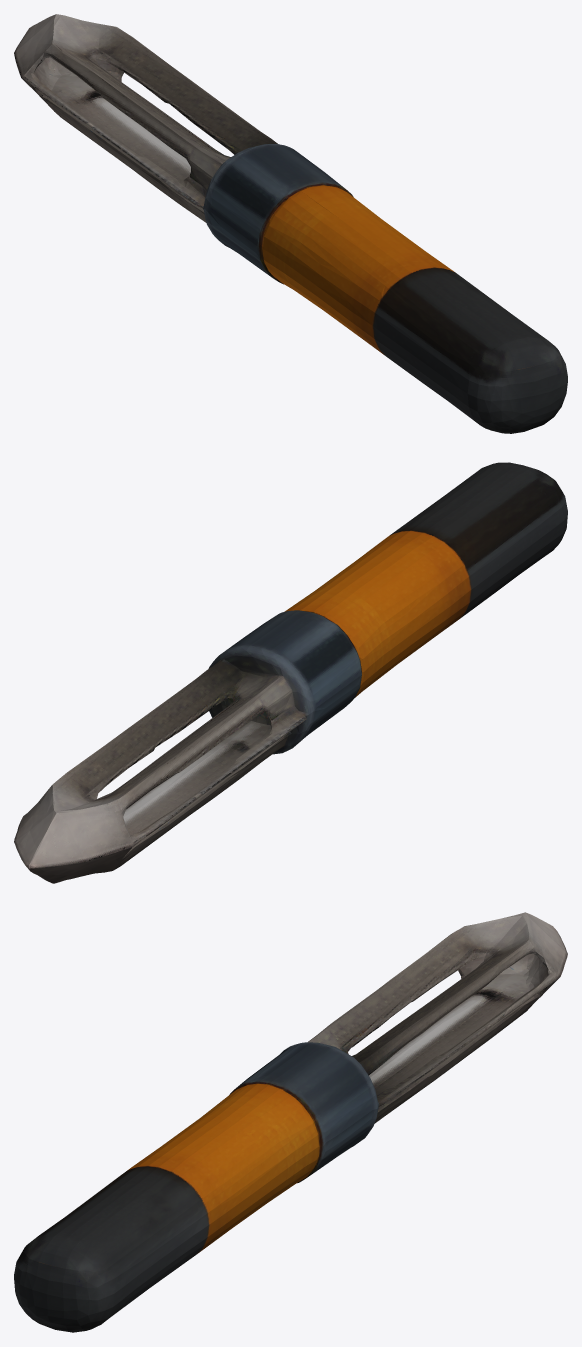
The model's file is LancashirePeeler.glb.
The picture shows the model from 3 angles, top to bottom: view 1: azimuth 30°, elevation 25°; view 2: azimuth 150°, elevation 25°; view 3: azimuth 330°, elevation 25°; orthographic projection.
Visible parts, largest first — view 1: world; view 2: world; view 3: world.
Boxes of the visible parts, left/top/right/bottom form: world: left=14, top=14, right=567, bottom=433; world: left=14, top=462, right=567, bottom=883; world: left=14, top=912, right=567, bottom=1332.
Size of the model in its own units: 0.128 by 0.1143 by 1.
Materials: 1 (1 with a texture image).
